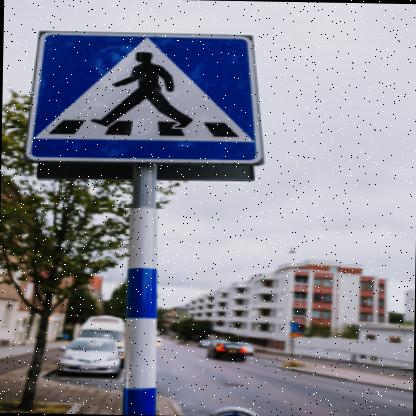crosswalk: (22, 23, 264, 163)
